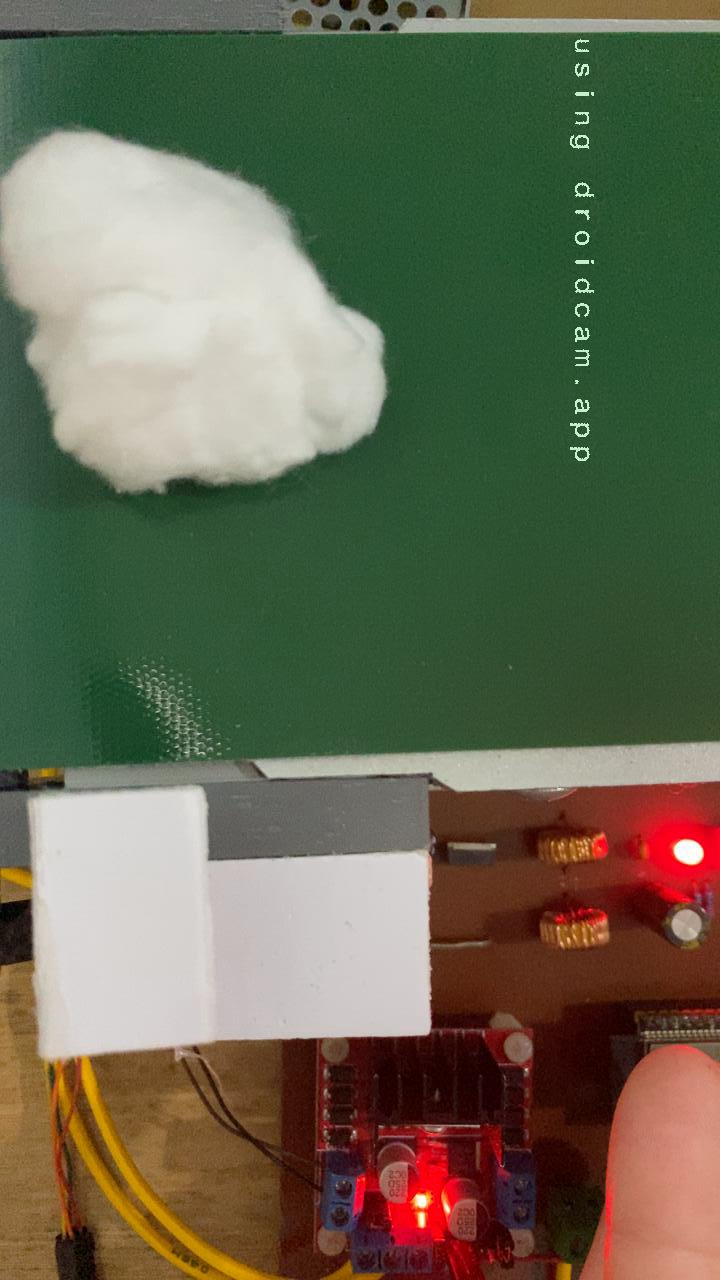cotton: (0, 122, 395, 498)
